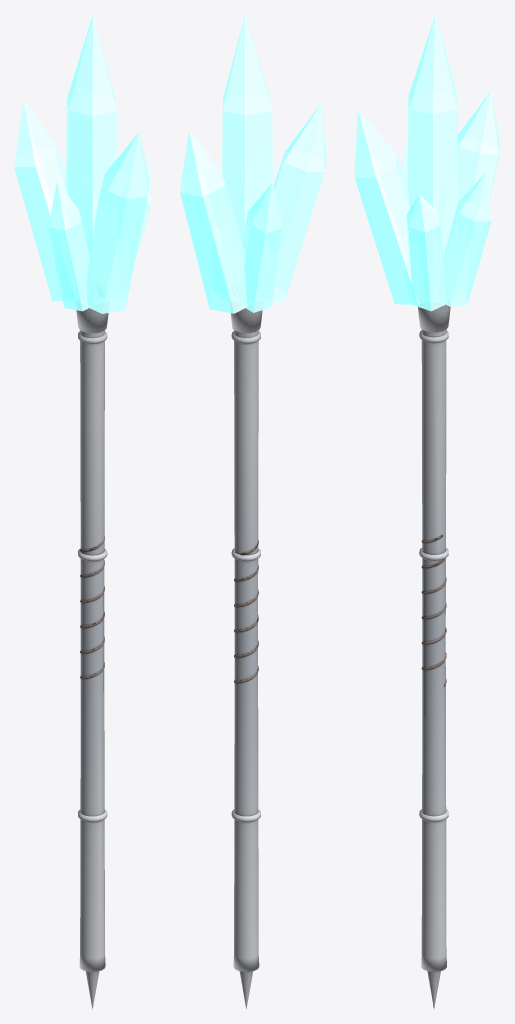
File: arma_lend_cajado_gelo.glb
3 renders of one model, left to right at view 1: azimuth 90°, elevation 25°; view 2: azimuth 150°, elevation 25°; view 3: azimuth 330°, elevation 25°, orthographic.
Parts seen in each view (by area): view 1: arma_lend_cajado_gelo, cris_meio, cris3, cris1, cris2, cris4, cris0; view 2: arma_lend_cajado_gelo, cris_meio, cris1, cris3, cris2, cris0; view 3: arma_lend_cajado_gelo, cris_meio, cris3, cris0, cris1, cris4.
Boxes of the visible parts, <box> form: arma_lend_cajado_gelo: <box>76,308,108,1009</box>; cris_meio: <box>66,15,118,305</box>; cris3: <box>80,132,149,313</box>; cris1: <box>14,100,78,301</box>; cris2: <box>48,181,95,311</box>; cris4: <box>119,164,151,297</box>; cris0: <box>83,186,96,243</box>; arma_lend_cajado_gelo: <box>230,308,262,1008</box>; cris_meio: <box>221,15,274,302</box>; cris1: <box>180,131,258,313</box>; cris3: <box>260,102,325,302</box>; cris2: <box>238,183,281,312</box>; cris0: <box>212,226,220,294</box>; arma_lend_cajado_gelo: <box>418,304,450,1009</box>; cris_meio: <box>406,14,459,302</box>; cris3: <box>354,109,426,304</box>; cris0: <box>441,172,491,306</box>; cris1: <box>440,90,500,293</box>; cris4: <box>406,194,446,311</box>.
Bounding box in the file's own units: 0.2854 × 2.29 × 0.2868.
Materials: 7 (1 with a texture image).
